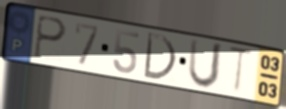5: (111, 27, 141, 75)
7: (72, 21, 100, 69)
D: (141, 30, 179, 83)
P: (32, 13, 68, 61)
T: (226, 44, 256, 97)
U: (186, 37, 225, 92)
